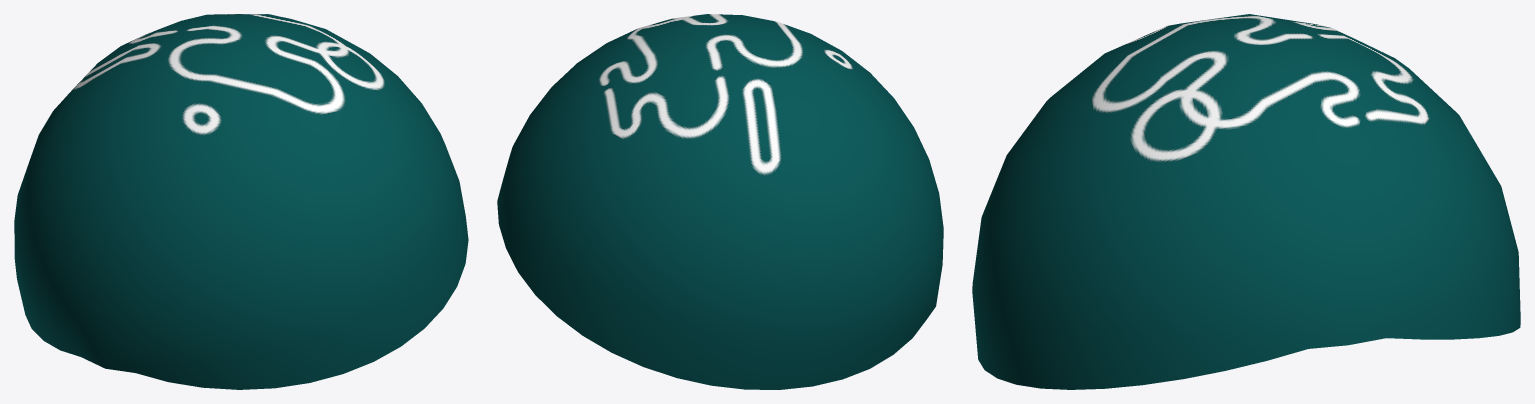
File: Models_Button_Abstract.fbx
3 views of the same model, side by side, from view 1: azimuth 30°, elevation 25°; view 2: azimuth 150°, elevation 25°; view 3: azimuth 270°, elevation 25° (orthographic). The views are drawn at different scales.
Parts seen in each view (by area): view 1: pSphere40; view 2: pSphere40; view 3: pSphere40.
Boxes of the visible parts, bbox=[...] form: pSphere40: bbox=[14, 14, 468, 389]; pSphere40: bbox=[497, 14, 943, 389]; pSphere40: bbox=[972, 14, 1520, 389].
Bounding box in the file's own units: 7.35 × 4.88 × 7.38.
1 material, 1 textured.
